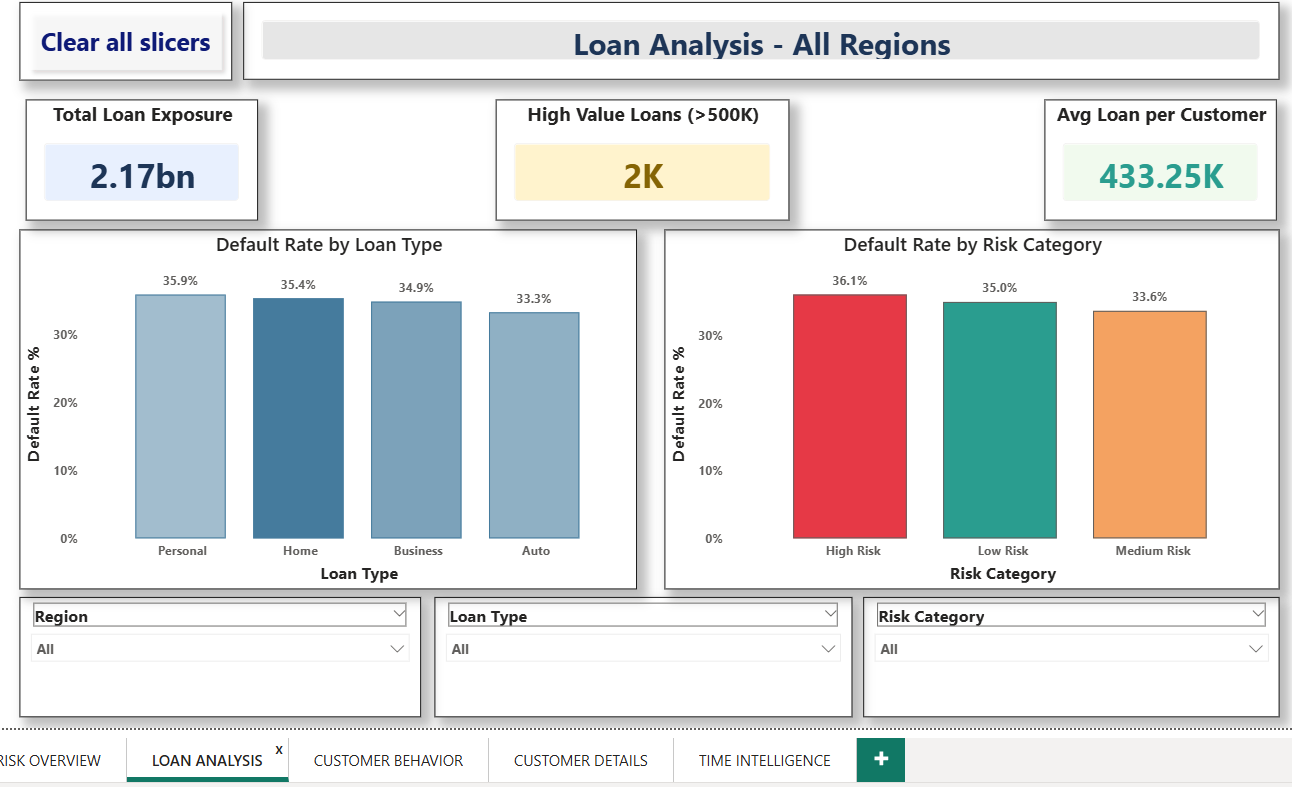

Layout of this report page (visuals, bound fields, positions):
{"tool":"powerbi","page":{"name":"LOAN ANALYSIS","canvas":[1280,720],"ordinal":1},"visuals":[{"type":"cardVisual","title":"Total Loan Exposure","fields":{"Data":["Measure.Total Loan"]},"box":[28,105.2,227.4,118.6],"z":0,"group":"g1"},{"type":"clusteredColumnChart","title":"Default Rate by Loan Type","fields":{"Category":["customer_credit_data.loan_type"],"Y":["Measure.Default Rate %"]},"box":[22,232.3,604.1,352.2],"z":0},{"type":"cardVisual","title":"Avg Loan per Customer","fields":{"Data":["Measure.Avg Loan per Customer"]},"box":[1024.6,105.2,227.4,118.6],"z":1000,"group":"g1"},{"type":"clusteredColumnChart","title":"Default Rate by Risk Category","fields":{"Category":["customer_credit_data.risk_category"],"Y":["Measure.Default Rate %"]},"box":[653,232.3,601.6,352.2],"z":1000},{"type":"cardVisual","fields":{"Data":["Measure.Loan Page Title"]},"box":[240.9,9.8,1013.7,75.8],"z":2000},{"type":"cardVisual","title":"High Value Loans (>500K)","fields":{"Data":["Measure.High Value Loans"]},"box":[487.8,105.2,287.4,118.6],"z":2000,"group":"g1"},{"type":"slicer","fields":{"Values":["customer_credit_data.region"]},"box":[22,591.9,392.5,117.4],"z":3000},{"type":"slicer","fields":{"Values":["customer_credit_data.risk_category"]},"box":[847.4,591.9,407.2,117.4],"z":4000},{"type":"slicer","fields":{"Values":["customer_credit_data.loan_type"]},"box":[428,591.9,408.4,117.4],"z":5000},{"type":"actionButton","box":[21.6,10.1,207.8,76.5],"z":6000},{"type":"group","id":"g1","title":"Group 1","box":[28,105.2,1224.1,118.6],"z":7000}]}

Visuals, with their boxes on the page's 1280x720 design canvas (x1, y1, x2, y2). These are canvas units, not pixel positions in the 1292x787 screenshot, which may show the page scaled, cropped or inside an application window:
"Total Loan Exposure" cardVisual: BBox(28, 105, 255, 224)
"Default Rate by Loan Type" clusteredColumnChart: BBox(22, 232, 626, 584)
"Avg Loan per Customer" cardVisual: BBox(1025, 105, 1252, 224)
"Default Rate by Risk Category" clusteredColumnChart: BBox(653, 232, 1255, 584)
cardVisual - Measure.Loan Page Title: BBox(241, 10, 1255, 86)
"High Value Loans (>500K)" cardVisual: BBox(488, 105, 775, 224)
slicer - customer_credit_data.region: BBox(22, 592, 414, 709)
slicer - customer_credit_data.risk_category: BBox(847, 592, 1255, 709)
slicer - customer_credit_data.loan_type: BBox(428, 592, 836, 709)
actionButton: BBox(22, 10, 229, 87)
"Group 1" group: BBox(28, 105, 1252, 224)
